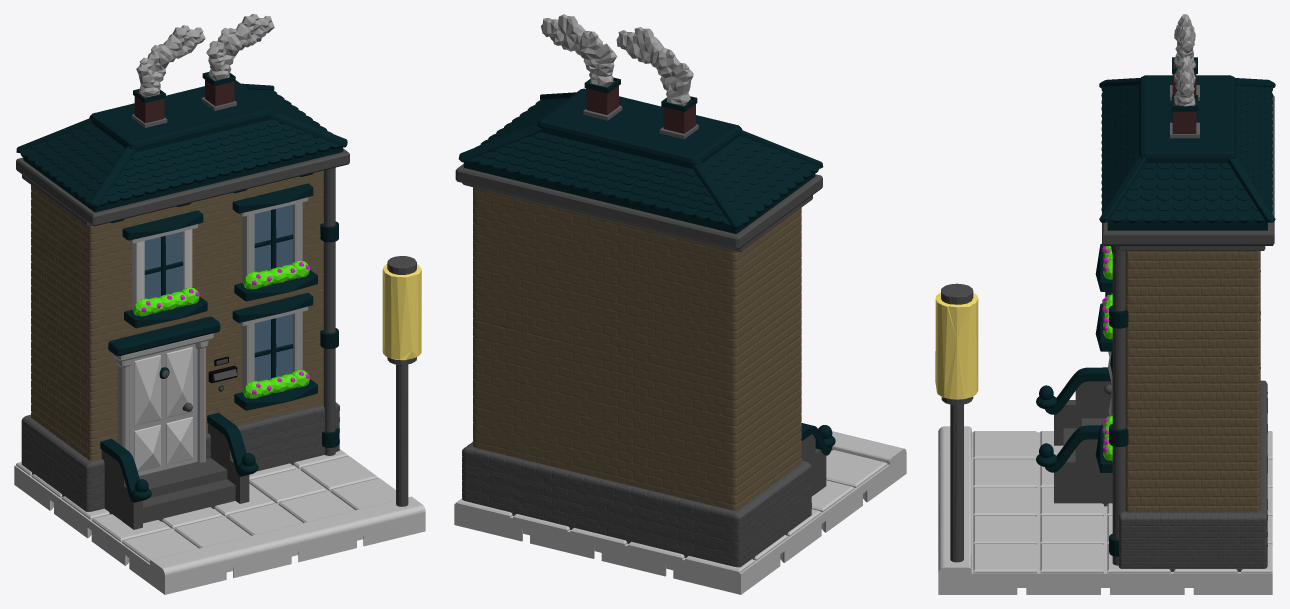
Rendered from 10x10 house 1.glb.
3 renders of one model, left to right at view 1: azimuth 30°, elevation 25°; view 2: azimuth 150°, elevation 25°; view 3: azimuth 270°, elevation 25°, orthographic. The views are drawn at different scales.
Visible parts, largest first — view 1: COLOR, PLACEMENT_BASE, Box 6, Box 28, Box 50, Box 149, fenster light (×3), Box 19, Box 10, light_, Cylinder 9, Box 41 (+35 smaller); view 2: COLOR, Box 6, PLACEMENT_BASE, Box 143, Box 149, Box 19, Box 10, SMOKE_1, SMOKE_2, Box 21, Box 24, Box 20 (+6 smaller); view 3: COLOR, PLACEMENT_BASE, Box 6, Box 24, Box 149, Box 50, light_, Box 28, Box 143, Cylinder 9, Box 19, LAMP (+10 smaller).
Boxes of the visible parts, x1,y1,x2,y2 form: COLOR: [31, 170, 323, 460]; PLACEMENT_BASE: [14, 449, 425, 594]; Box 6: [21, 402, 339, 511]; Box 28: [99, 119, 341, 206]; Box 50: [101, 423, 249, 529]; Box 149: [89, 80, 276, 152]; fenster light (×3): [144, 205, 292, 381]; Box 19: [16, 149, 349, 226]; Box 10: [16, 123, 125, 205]; light_: [382, 264, 421, 360]; Cylinder 9: [323, 167, 335, 455]; Box 41: [130, 344, 197, 475]; COLOR: [473, 187, 801, 510]; Box 6: [462, 442, 811, 567]; PLACEMENT_BASE: [454, 427, 906, 594]; Box 143: [466, 132, 732, 227]; Box 149: [537, 88, 742, 168]; Box 19: [455, 164, 822, 249]; Box 10: [703, 136, 819, 229]; SMOKE_1: [616, 27, 693, 105]; SMOKE_2: [541, 14, 617, 87]; Box 21: [463, 133, 815, 233]; Box 24: [475, 98, 567, 147]; Box 20: [462, 183, 812, 252]; COLOR: [1125, 251, 1260, 512]; PLACEMENT_BASE: [938, 426, 1272, 594]; Box 6: [1118, 380, 1267, 571]; Box 24: [1103, 163, 1264, 223]; Box 149: [1139, 75, 1235, 163]; Box 50: [1054, 381, 1112, 506]; light_: [935, 292, 978, 399]; Box 28: [1101, 85, 1139, 214]; Box 143: [1236, 85, 1272, 214]; Cylinder 9: [1112, 246, 1125, 565]; Box 19: [1102, 95, 1274, 245]; LAMP: [950, 404, 963, 562].
Bounding box in the file's own units: 101 × 167 × 102.
